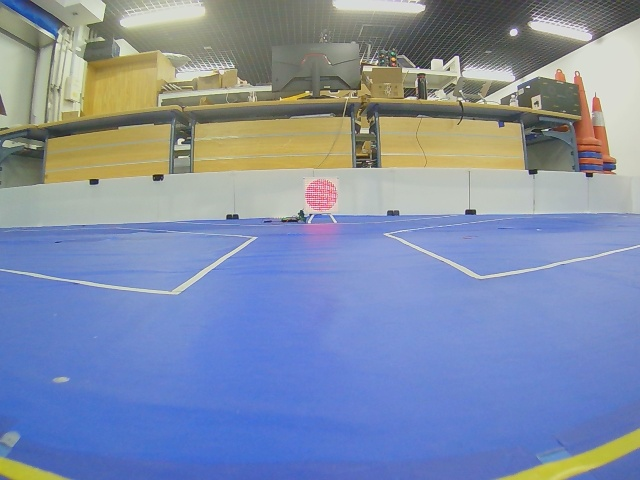red: (305, 178, 338, 213)
